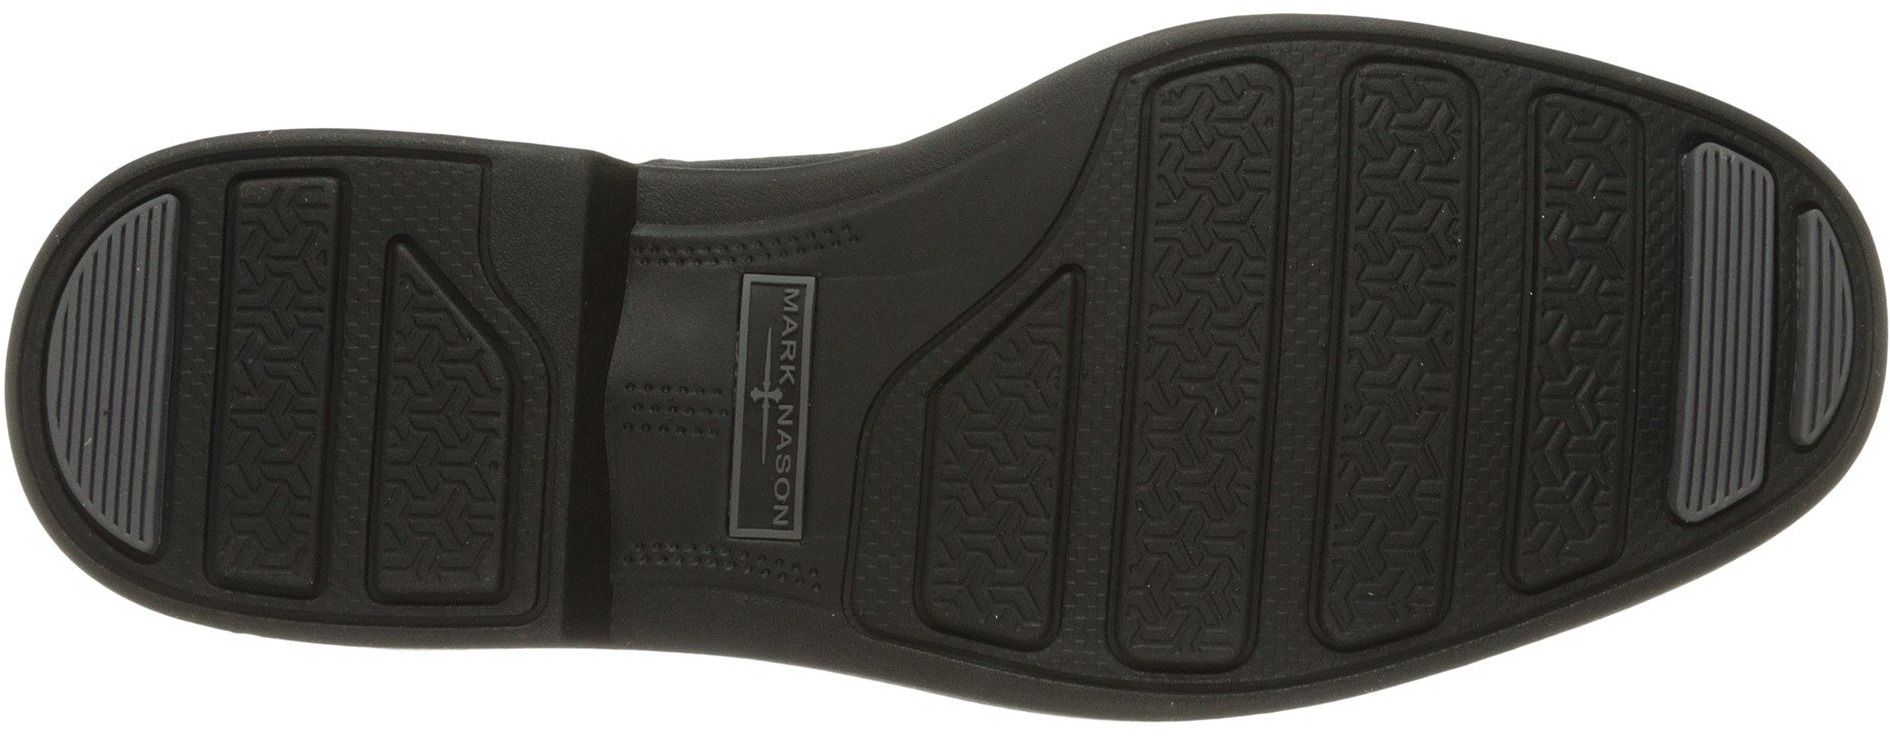line: (1702, 188, 1769, 299)
quad: (894, 248, 1094, 669), (356, 217, 535, 612)
star: (894, 248, 1094, 669), (380, 334, 503, 587), (1150, 87, 1282, 227), (1141, 236, 1270, 364)
